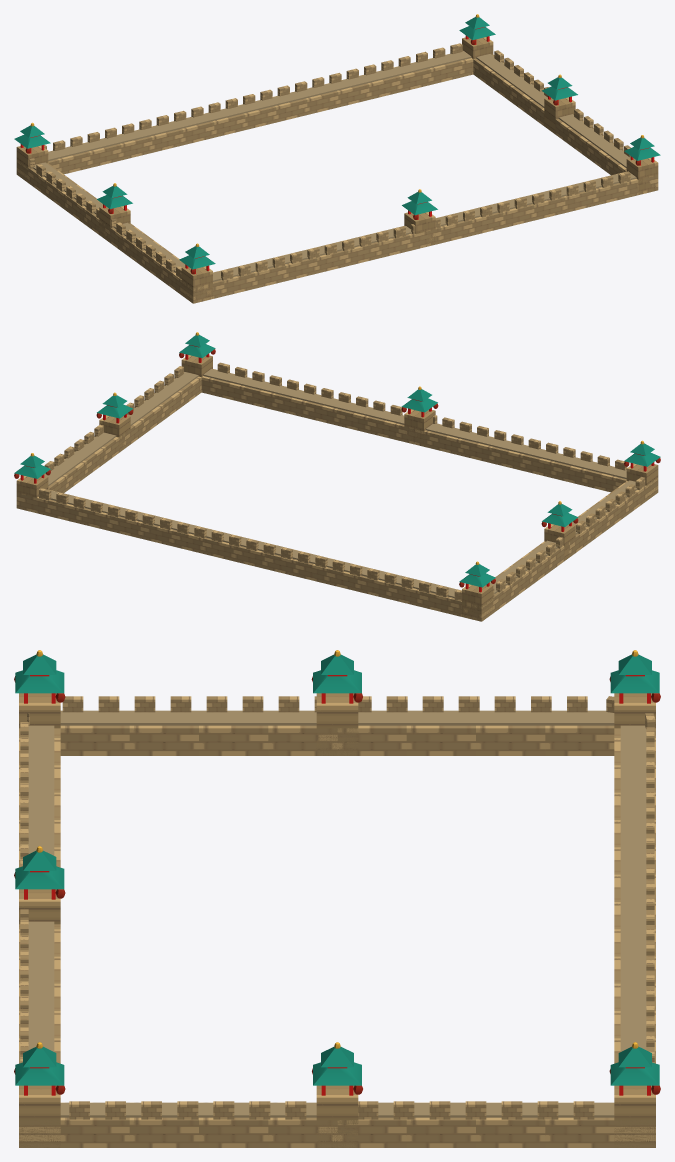
The model's file is Rim_GreatWall.fbx.
3 views of the same model, one above another, from view 1: azimuth 30°, elevation 25°; view 2: azimuth 150°, elevation 25°; view 3: azimuth 270°, elevation 25° (orthographic). The views are drawn at different scales.
Parts seen in each view (by area): view 1: Rim_GreatWall; view 2: Rim_GreatWall; view 3: Rim_GreatWall.
Part boxes in pixels (left/top/right/bottom): Rim_GreatWall: left=14, top=14, right=660, bottom=303; Rim_GreatWall: left=14, top=332, right=660, bottom=621; Rim_GreatWall: left=14, top=650, right=660, bottom=1147.
Bounding box in the file's own units: 3.53 × 0.3868 × 2.34.
1 material, 1 textured.
